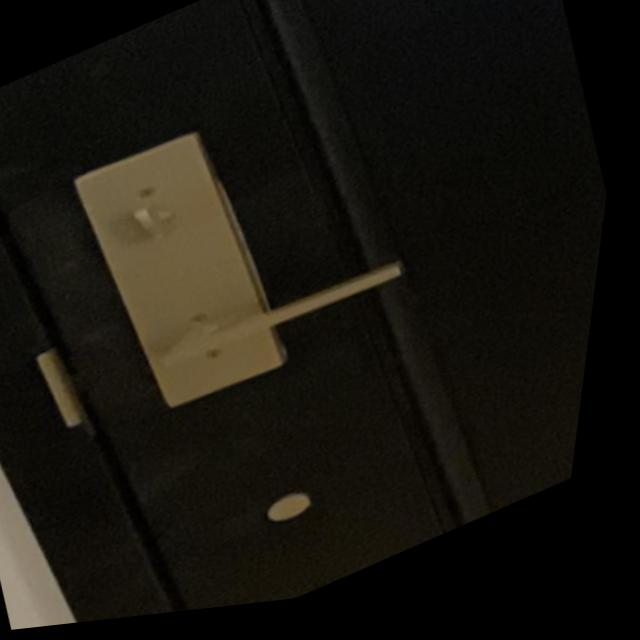door_handle: (104, 208, 454, 431)
